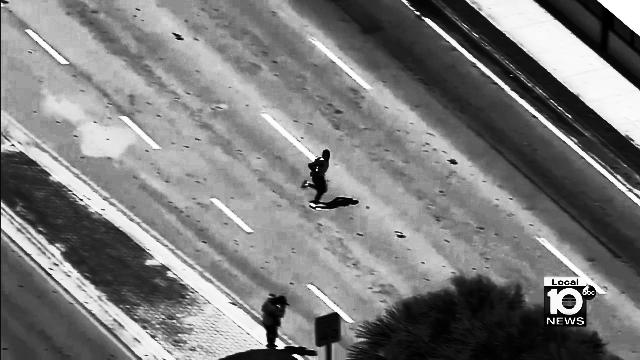berlari: (300, 145, 332, 211)
